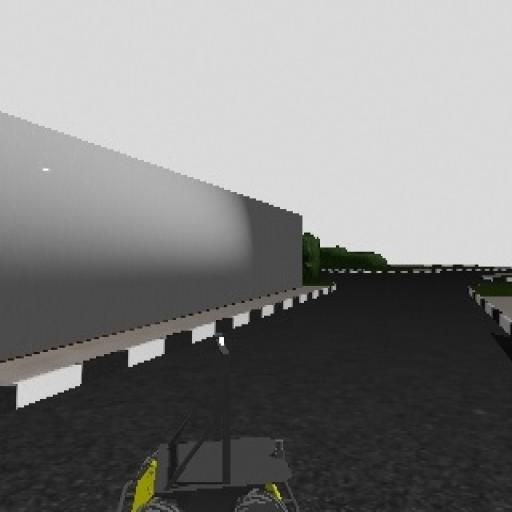huskya200: (93, 328, 309, 512)
